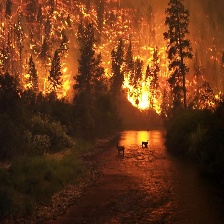fire: (129, 14, 168, 68), (82, 3, 119, 47), (124, 74, 162, 114), (43, 62, 75, 103), (186, 78, 223, 113), (47, 3, 76, 42), (1, 2, 24, 51), (21, 61, 37, 95)
